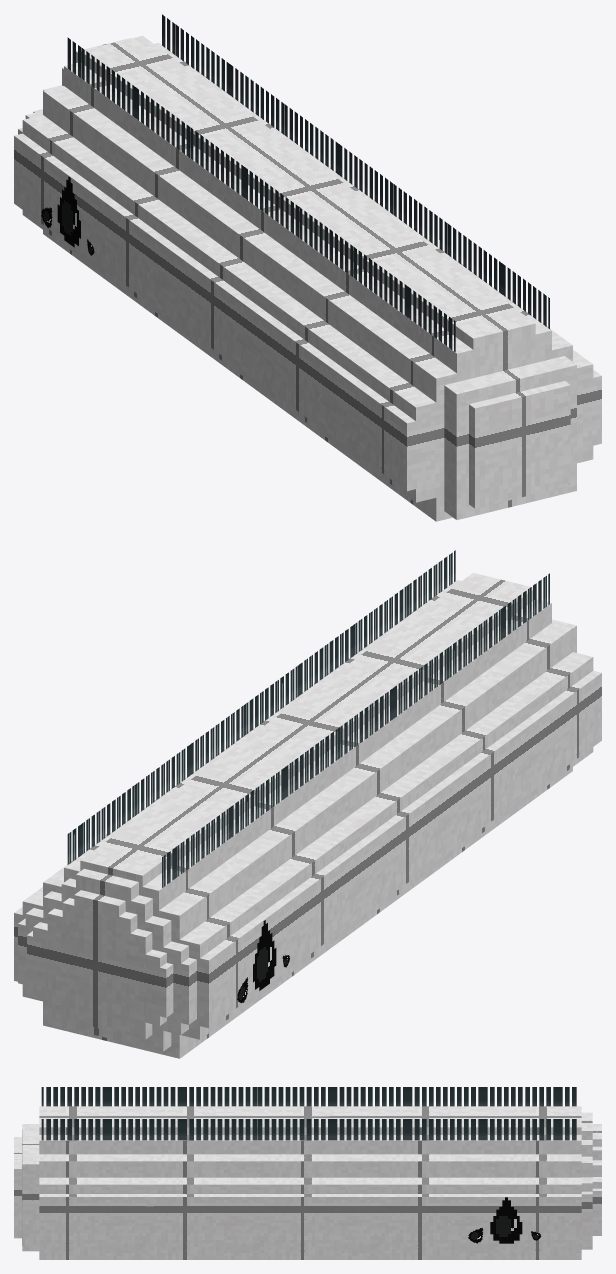
File: BGN_OIL CONTAINER.fbx
The picture shows the model from 3 angles, top to bottom: view 1: azimuth 30°, elevation 25°; view 2: azimuth 150°, elevation 25°; view 3: azimuth 270°, elevation 25°; orthographic projection. The views are drawn at different scales.
Visible parts, largest first — view 1: BGN_OIL_CONTAINER; view 2: BGN_OIL_CONTAINER; view 3: BGN_OIL_CONTAINER.
Boxes of the visible parts, <box> form: BGN_OIL_CONTAINER: <box>14,14,601,521</box>; BGN_OIL_CONTAINER: <box>14,550,601,1058</box>; BGN_OIL_CONTAINER: <box>14,1087,601,1259</box>.
Bounding box in the file's own units: 265 × 251 × 1001.
